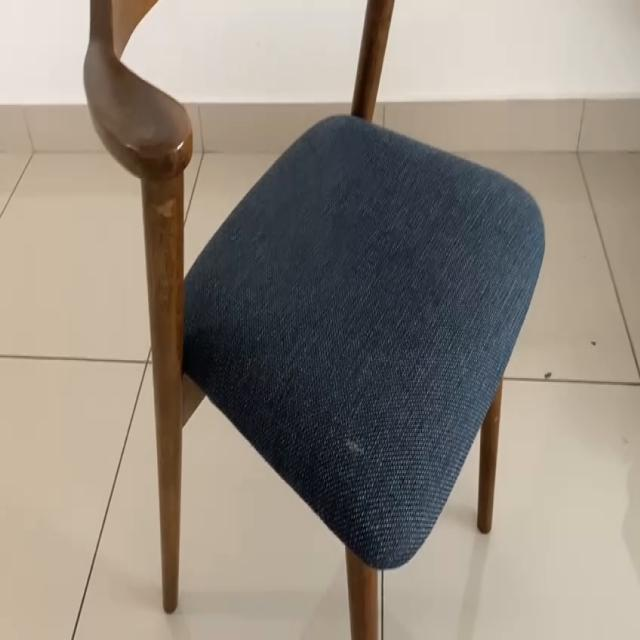Chair: (37, 0, 572, 632)
